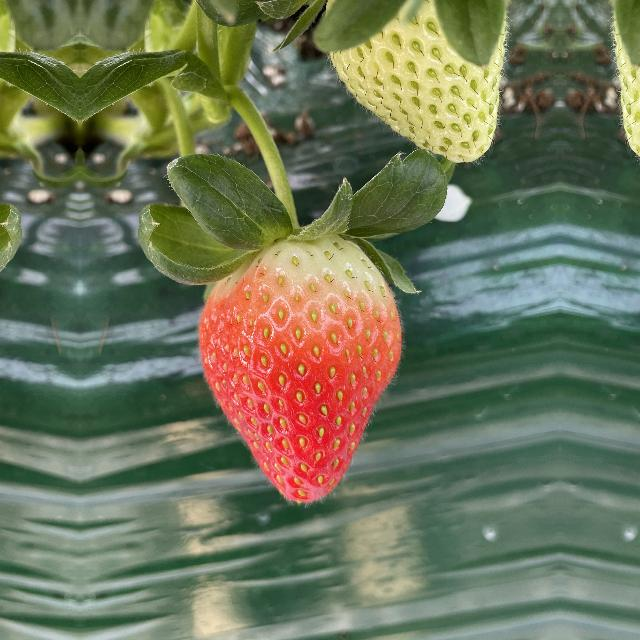Health_100: (192, 233, 406, 509)
Health_25: (326, 1, 500, 161)
